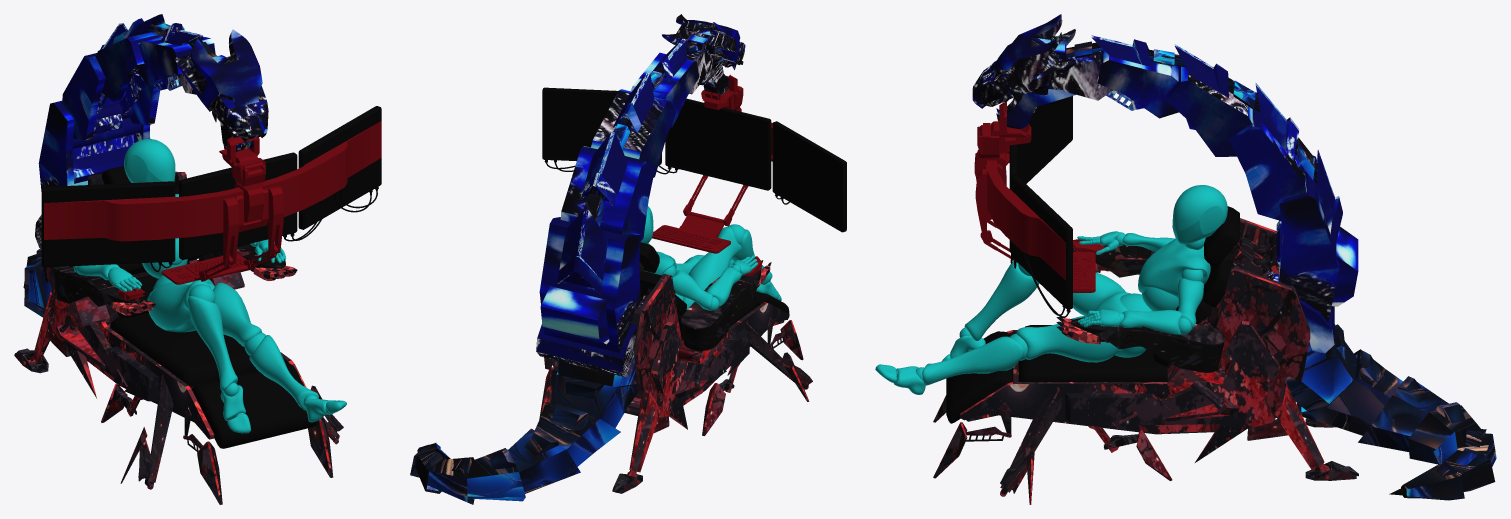
File: dragon9.glb
3 renders of one model, left to right at view 1: azimuth 30°, elevation 25°; view 2: azimuth 150°, elevation 25°; view 3: azimuth 270°, elevation 25°, orthographic. The views are drawn at different scales.
Parts seen in each view (by area): view 1: a1UVs3, a2UVs1, JUST_MAT_xBot_, a1UVs1, a1UVs4, mainHead, monitor_right, monitorMid, monitor_left, mech, tail_2_1, a2UVs1_3 (+1 smaller); view 2: a1UVs1, a1UVs3, tail_2_1, monitorMid, monitor_right, JUST_MAT_xBot_, monitor_left, mainHead, a2UVs1, a1UVs4; view 3: a1UVs3, a1UVs1, JUST_MAT_xBot_, tail_2_1, a1UVs4, mainHead, a2UVs1, monitor_right, monitor_left, a2UVs1_3.
Boxes of the visible parts, x1,y1,x2,y2 form: a1UVs3: (14, 171, 343, 504); a2UVs1: (44, 121, 381, 300); JUST_MAT_xBot_: (73, 139, 346, 433); a1UVs1: (35, 14, 216, 248); a1UVs4: (102, 165, 378, 448); mainHead: (175, 29, 268, 151); monitor_right: (41, 181, 175, 267); monitorMid: (179, 152, 297, 259); monitor_left: (298, 106, 381, 229); mech: (72, 71, 181, 148); tail_2_1: (23, 22, 243, 317); a2UVs1_3: (232, 162, 265, 222); a1UVs1: (536, 38, 713, 377); a1UVs3: (539, 260, 812, 493); tail_2_1: (410, 42, 700, 504); monitorMid: (665, 98, 771, 190); monitor_right: (772, 121, 846, 232); JUST_MAT_xBot_: (641, 206, 781, 310); monitor_left: (542, 87, 661, 164); mainHead: (662, 14, 745, 94); a2UVs1: (652, 123, 772, 275); a1UVs4: (544, 160, 789, 340); a1UVs3: (933, 218, 1358, 504); a1UVs1: (1031, 35, 1358, 353); JUST_MAT_xBot_: (875, 185, 1227, 394); tail_2_1: (1011, 41, 1496, 500); a1UVs4: (946, 206, 1239, 423); mainHead: (972, 14, 1075, 129); a2UVs1: (975, 145, 1104, 292); monitor_right: (1016, 96, 1072, 183); monitor_left: (1011, 175, 1072, 309); a2UVs1_3: (974, 126, 1006, 185).
Bounding box in the file's own units: 17.77 × 20.7 × 27.25.
Materials: 6 (3 with a texture image).
